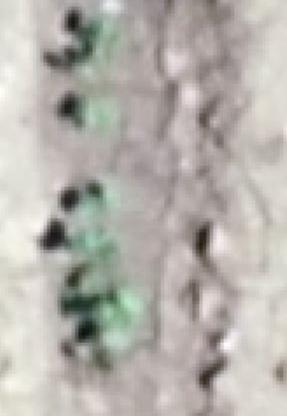cotton: (94, 292, 141, 329), (79, 179, 115, 214), (70, 230, 118, 254), (81, 20, 115, 48), (77, 97, 110, 125), (79, 51, 110, 70)
